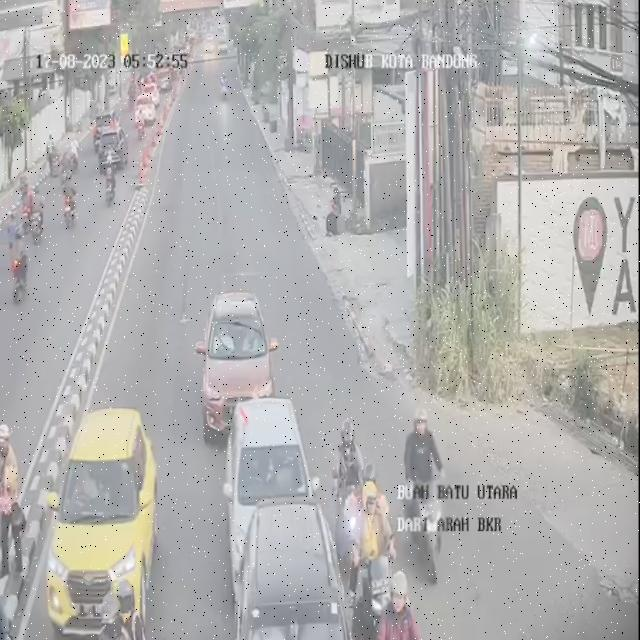cars: (43, 409, 162, 640), (222, 399, 321, 601), (226, 499, 353, 638), (202, 287, 278, 440)
motorcycle: (345, 473, 396, 640), (406, 404, 450, 574), (328, 419, 370, 544), (377, 572, 428, 640), (95, 575, 147, 640), (60, 171, 80, 230)
